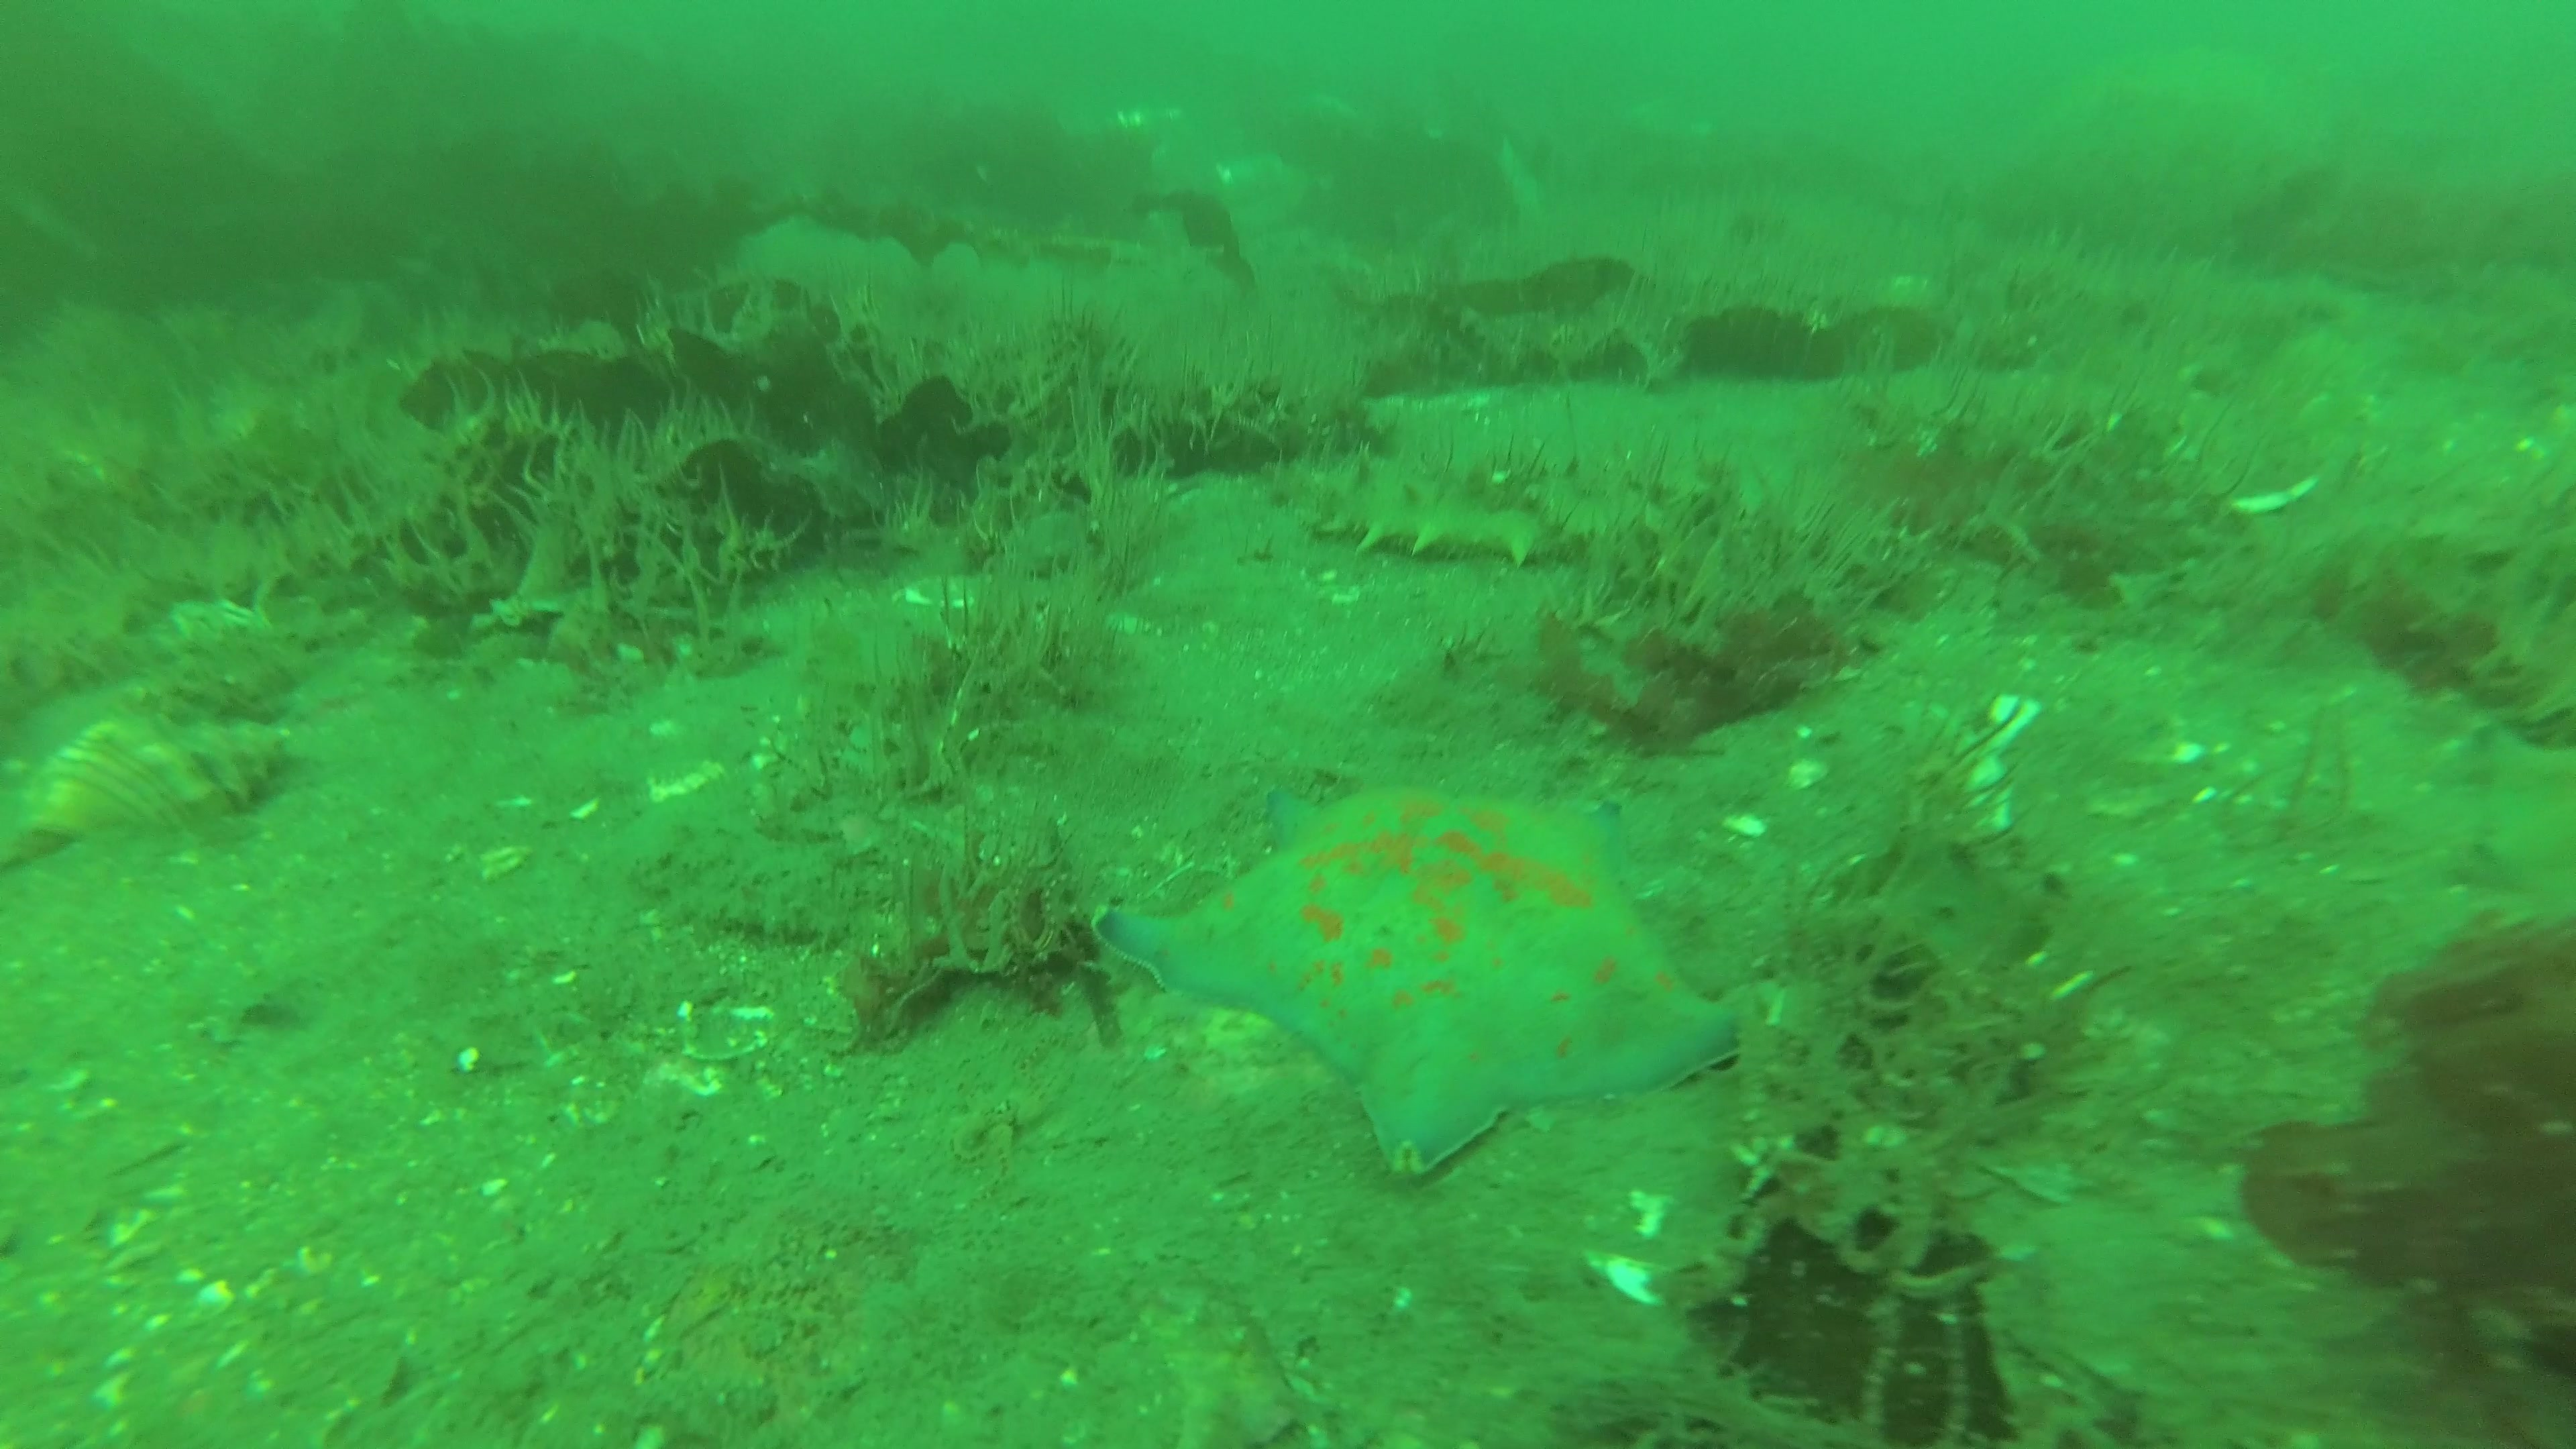holothurian: (1272, 448, 1559, 557)
starfish: (1095, 787, 1743, 1180)
